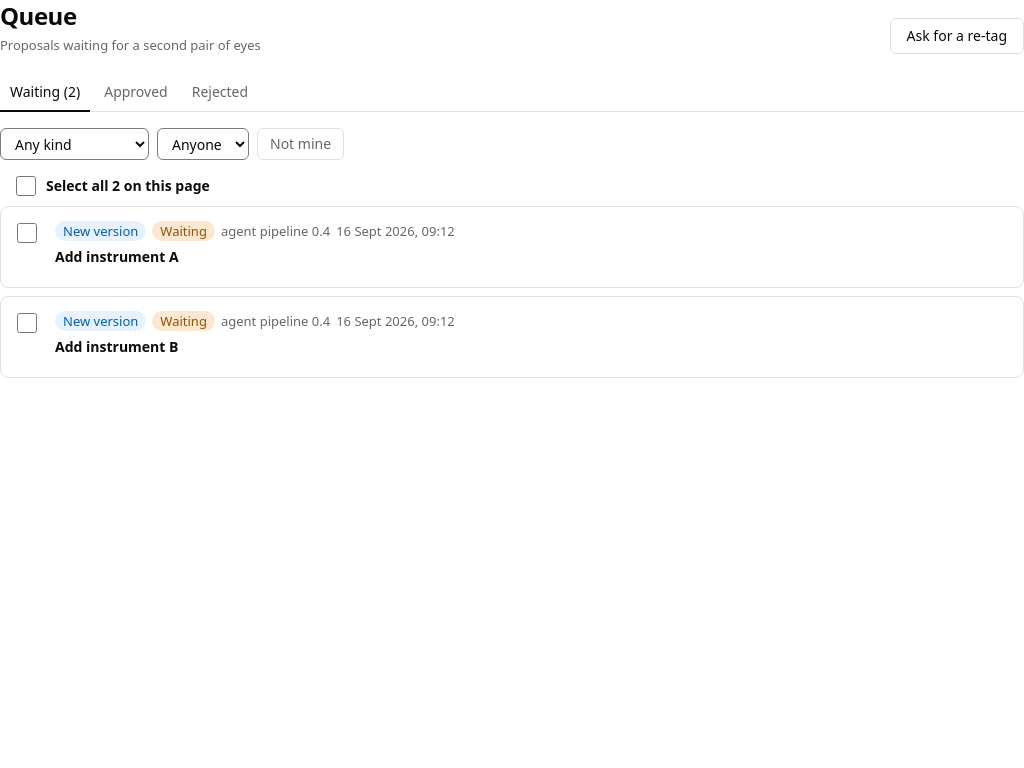
Test: the console queue › confirms how many, approves each in turn through the approve route, and says what was refused and why
Expected: the link "Add instrument A" is shown, top-left (55, 221), bottom-right (455, 266)
What coordinates should you click on to do the following:
click the checkbox labelled "Select all 2 on this page"
I would click on:
 (26, 186)
Its box is top-left (16, 176), bottom-right (36, 196).
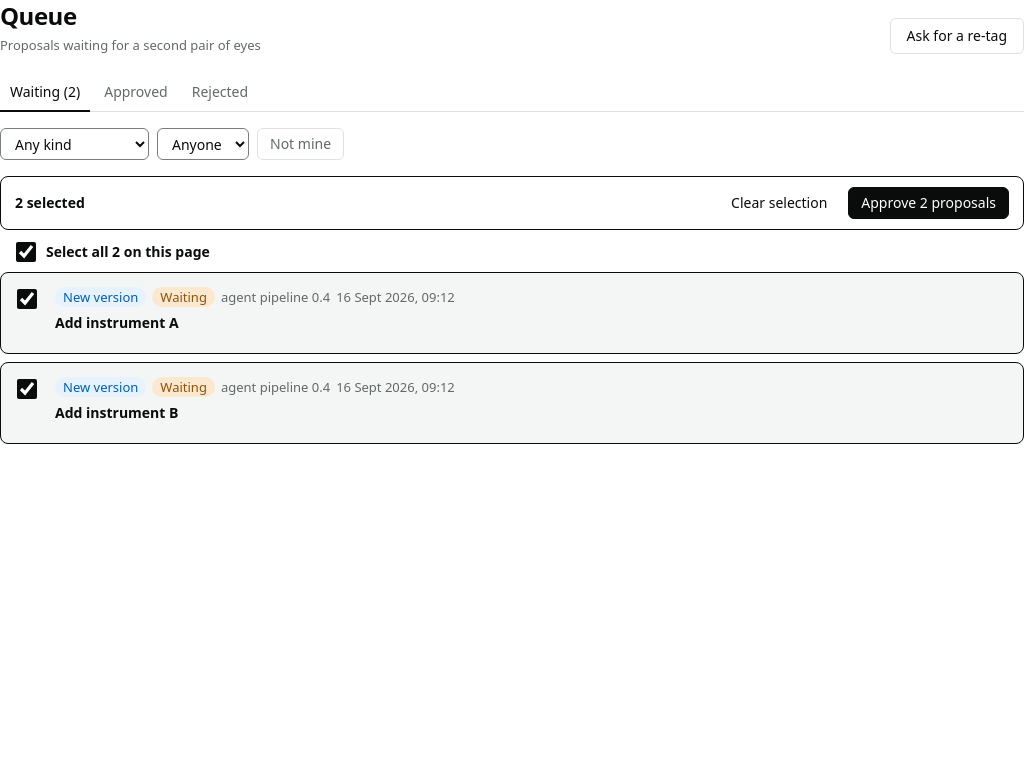
What coordinates should you click on to do the following:
click the button "Approve 2 proposals"
I would click on:
 (929, 203)
Its box is top-left (848, 187), bottom-right (1009, 219).
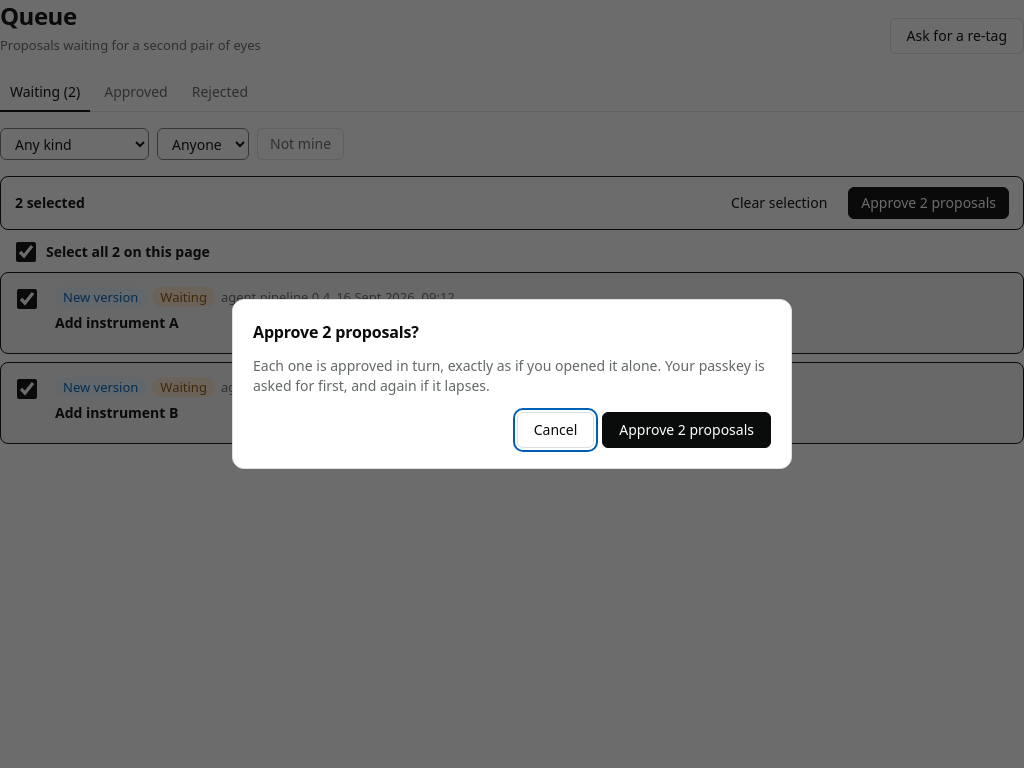
What coordinates should you click on to do the following:
click the button "Approve 2 proposals"
I would click on:
 (687, 430)
Its box is top-left (602, 412), bottom-right (771, 448).
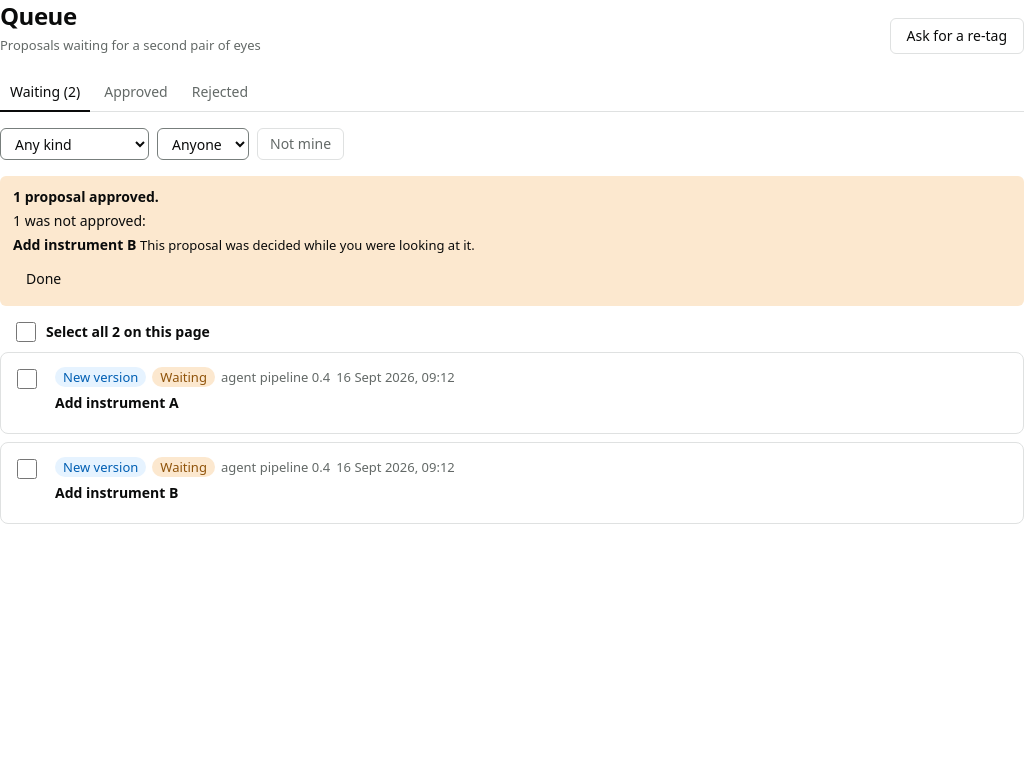
Expected: the text "1 was not approved:" is shown, top-left (13, 211), bottom-right (146, 230)
Expected: the text "Add instrument B" is shown, top-left (13, 235), bottom-right (136, 254)
Expected: the text "This proposal was decided while you were looking at it." is shown, top-left (140, 236), bottom-right (475, 254)
What coordinates should you click on to do the following:
click the button "Done"
I would click on:
 (44, 279)
Its box is top-left (13, 263), bottom-right (74, 295).
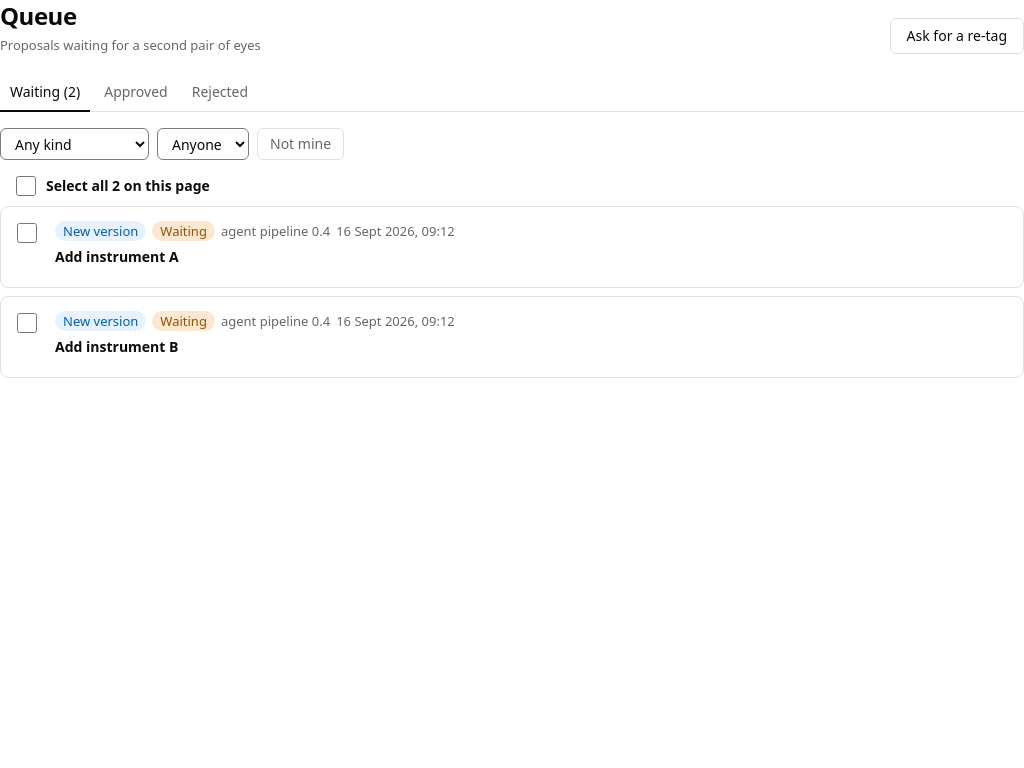
Expected: the text "1 proposal approved." is gone
